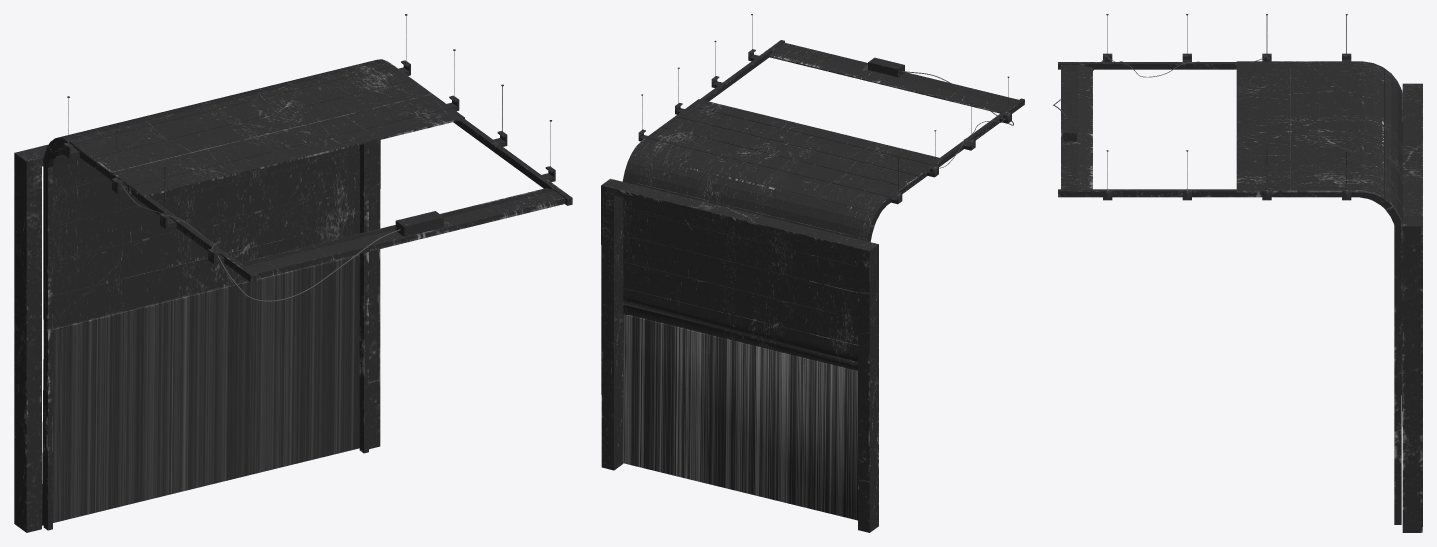
File: MAGOS.fbx
3 renders of one model, left to right at view 1: azimuth 30°, elevation 25°; view 2: azimuth 150°, elevation 25°; view 3: azimuth 270°, elevation 25°, orthographic. The views are drawn at different scales.
Parts seen in each view (by area): view 1: SmallGateVar2; view 2: SmallGateVar2; view 3: SmallGateVar2.
Part boxes in pixels (box(x1,y1,x2,y2)): SmallGateVar2: box(14, 14, 572, 532); SmallGateVar2: box(601, 14, 1024, 532); SmallGateVar2: box(1053, 14, 1422, 532).
Size of the model in its own units: 399 by 494 by 437.
